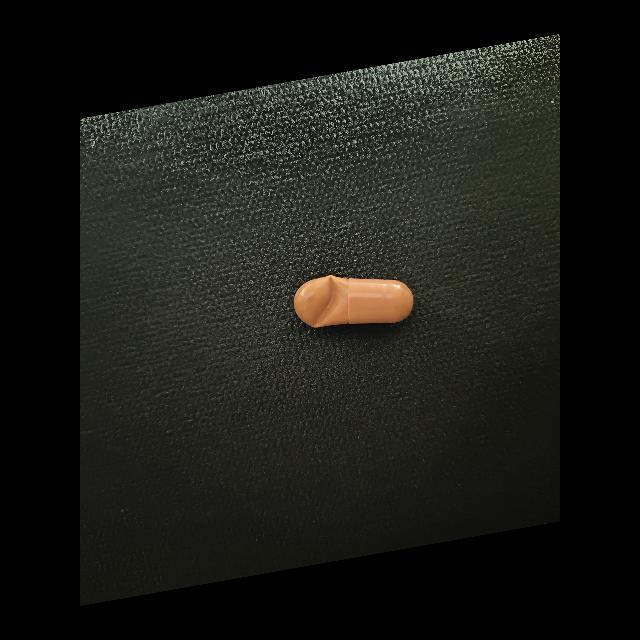Defective Capsule: (310, 275, 343, 327)
